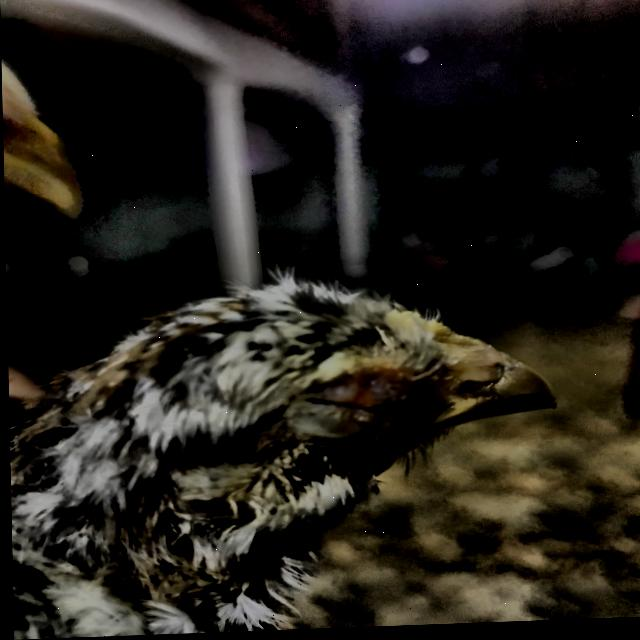Coryza: (75, 245, 559, 603)
